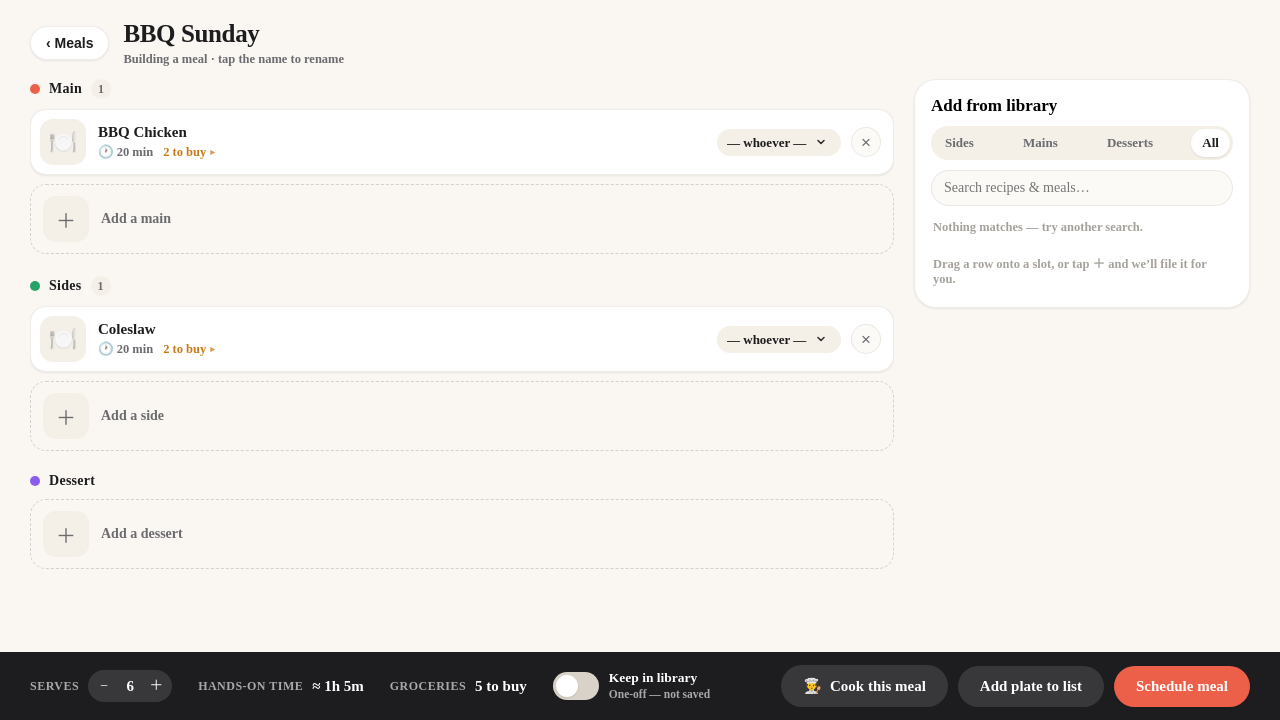
MealBuilder — the plate › removes a dish from the plate
The width and height of the screenshot is (1280, 720).
Click the button named "Remove Coleslaw": x=866, y=339 [851,324,881,354]
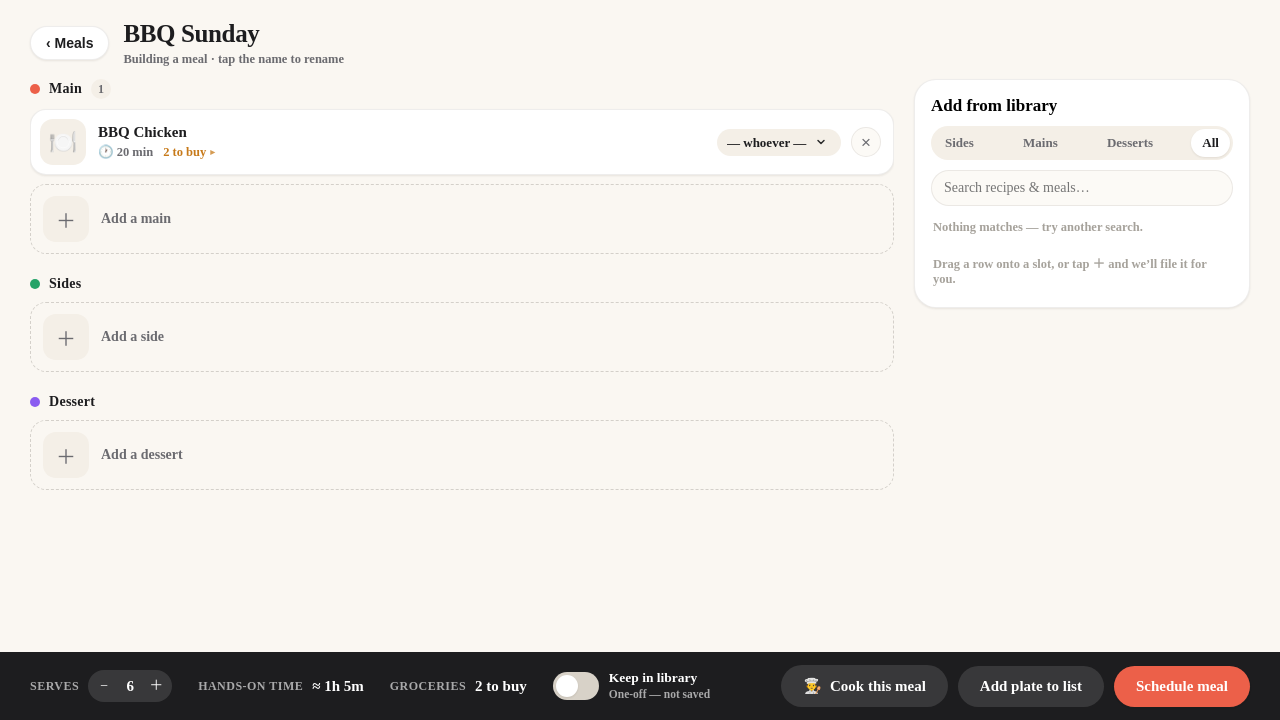
Expected: the text "BBQ Chicken" is shown, [98,124,187,140]
Now the button "Coleslaw" is gone
